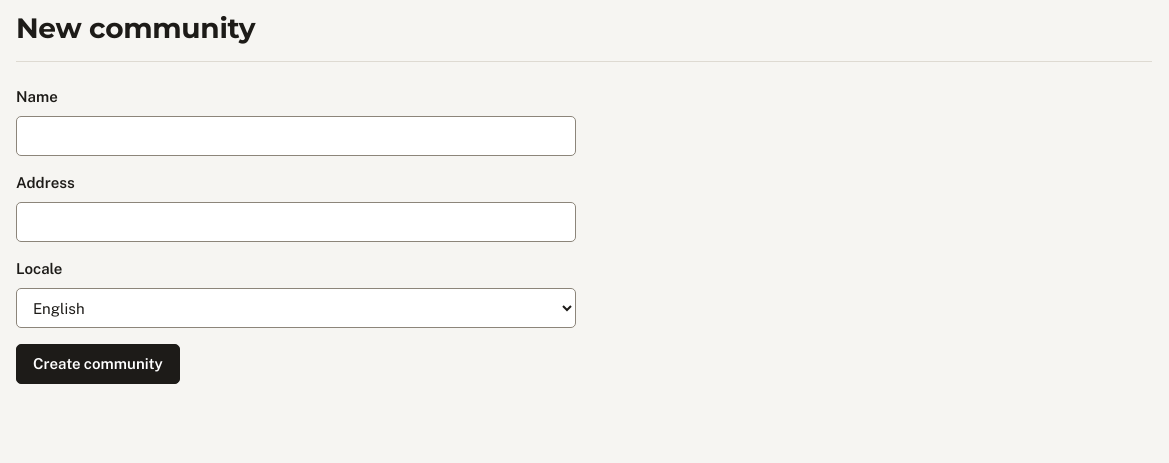
it: CommunityCreatePage › shows a mapped error message (not English server prose) when the server rejects the request
Type "Sunset Towers" into the field with test id "community-create-name".
click(296, 136); type("Sunset Towers")  # box left=16, top=116, right=576, bottom=156
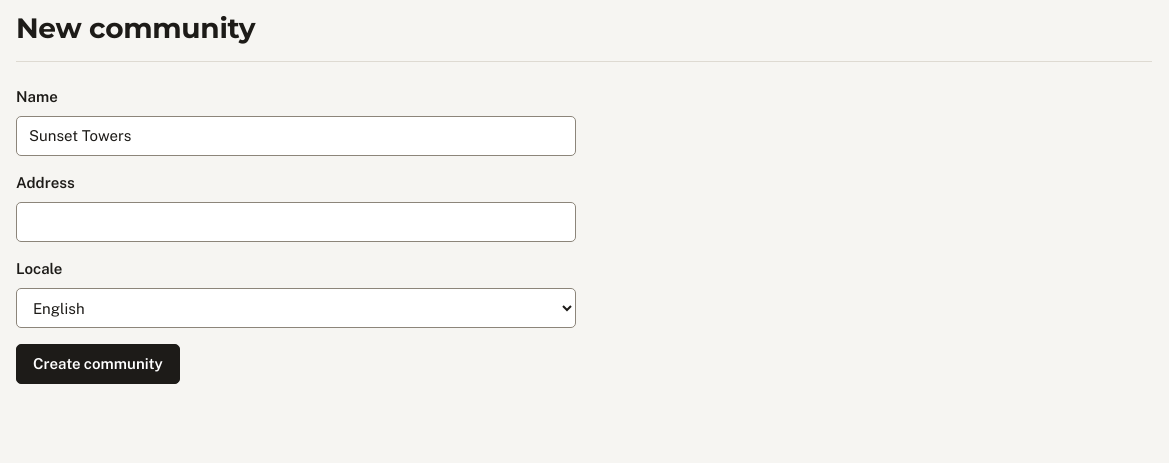
Type "123 Main St" into the field with test id "community-create-address".
click(296, 222); type("123 Main St")  # box left=16, top=202, right=576, bottom=242
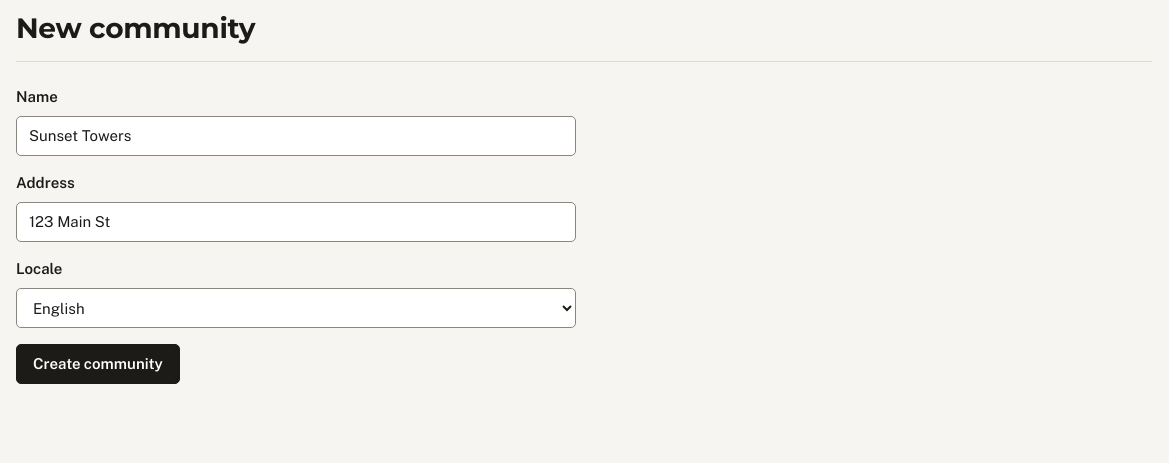
Click the button with test id "community-create-submit".
click(98, 364)  # box left=16, top=344, right=180, bottom=384
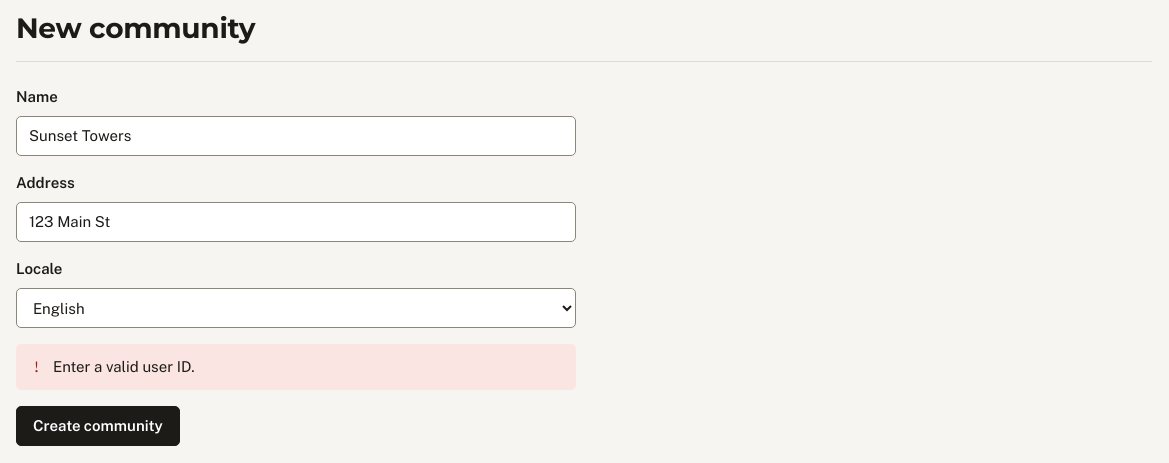
Expected: the message "! Enter a valid user ID." is shown, left=16, top=344, right=576, bottom=390
